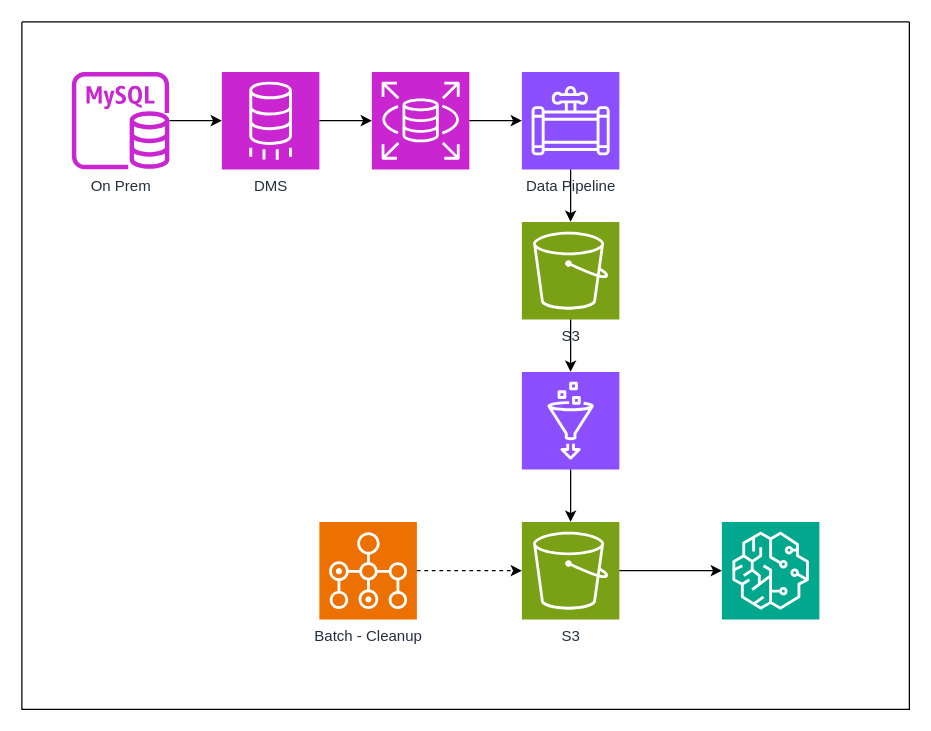
Image size: 931x731. Some labels were removed from this diagram. Here are the shapes that lost their labels. From the top down, the centre of each, then its label:
At (420,120): "RDS".
At (570,420): "Glue ETL".
At (770,570): "Sagemaker - ML".
